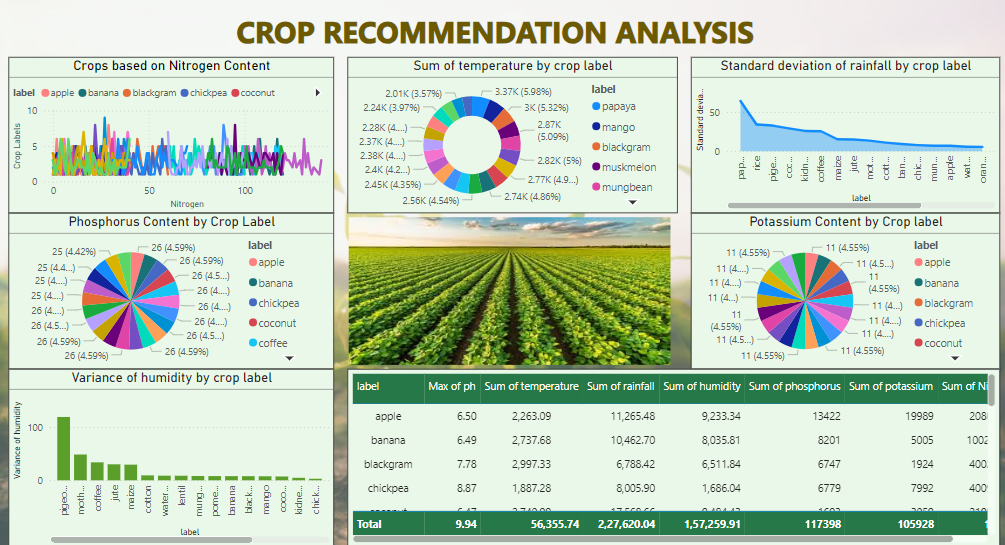

Layout of this report page (visuals, bound fields, positions):
{"tool":"powerbi","page":{"name":"Page 1","canvas":[1280,720],"ordinal":0},"visuals":[{"type":"lineChart","title":"Crops based on Nitrogen Content","fields":{"Category":["Crop_recommendation.Nitrogen"],"Y":["CountNonNull(Crop_recommendation.label)"],"Series":["Crop_recommendation.label"]},"box":[20,57.1,410,195.7],"z":0},{"type":"pieChart","title":"Phosphorus Content by Crop Label","fields":{"Y":["Count(Crop_recommendation.phosphorus)"],"Category":["Crop_recommendation.label"]},"box":[20,261.4,410,195.7],"z":1000},{"type":"clusteredColumnChart","title":"Variance of humidity by crop label","fields":{"Category":["Crop_recommendation.label"],"Y":["StandardDeviation(Crop_recommendation.humidity)"]},"box":[20,467.1,410,224.3],"z":2000},{"type":"stackedAreaChart","title":"Standard deviation of rainfall by crop label","fields":{"Category":["Crop_recommendation.label"],"Y":["Sum(Crop_recommendation.rainfall)"]},"box":[881.4,57.1,388.6,195.7],"z":3000},{"type":"donutChart","title":"Sum of temperature by crop label","fields":{"Category":["Crop_recommendation.label"],"Y":["Sum(Crop_recommendation.temperature)"]},"box":[447.1,57.1,415.7,195.7],"z":4000},{"type":"pieChart","title":"Potassium Content by Crop label","fields":{"Y":["Count(Crop_recommendation.potassium)"],"Category":["Crop_recommendation.label"]},"box":[881.4,261.4,388.6,195.7],"z":5000},{"type":"tableEx","fields":{"Values":["Crop_recommendation.label","Max(Crop_recommendation.ph)","Sum(Crop_recommendation.temperature)","Sum(Crop_recommendation.rainfall)","Sum(Crop_recommendation.humidity)","Sum(Crop_recommendation.phosphorus)","Sum(Crop_recommendation.potassium)","Sum(Crop_recommendation.Nitrogen)"]},"box":[447.1,467.1,822.9,224.3],"z":7000},{"type":"image","box":[447.1,261.4,415.7,195.7],"z":7001}]}

Visuals, with their boxes in screenshot pixels (x1, y1, x2, y2):
"Crops based on Nitrogen Content" lineChart: [38,75,333,216]
"Phosphorus Content by Crop Label" pieChart: [38,222,333,363]
"Variance of humidity by crop label" clusteredColumnChart: [38,370,333,531]
"Standard deviation of rainfall by crop label" stackedAreaChart: [657,75,937,216]
"Sum of temperature by crop label" donutChart: [345,75,644,216]
"Potassium Content by Crop label" pieChart: [657,222,937,363]
tableEx - Crop_recommendation.label x Max(Crop_recommendation.ph): [345,370,937,531]
image: [345,222,644,363]
